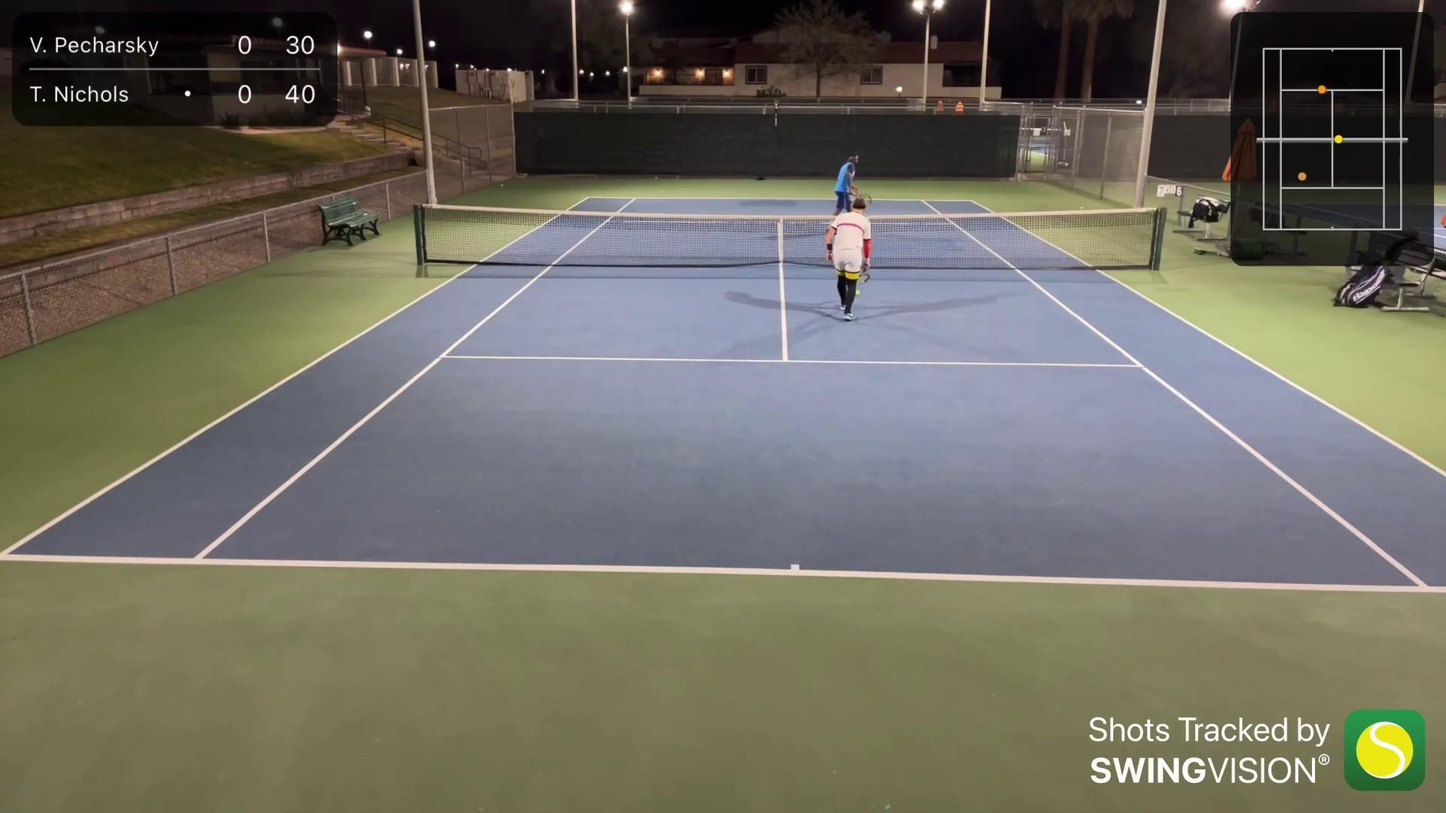ball: (855, 288, 860, 298), (498, 182, 505, 187), (654, 175, 660, 180)
